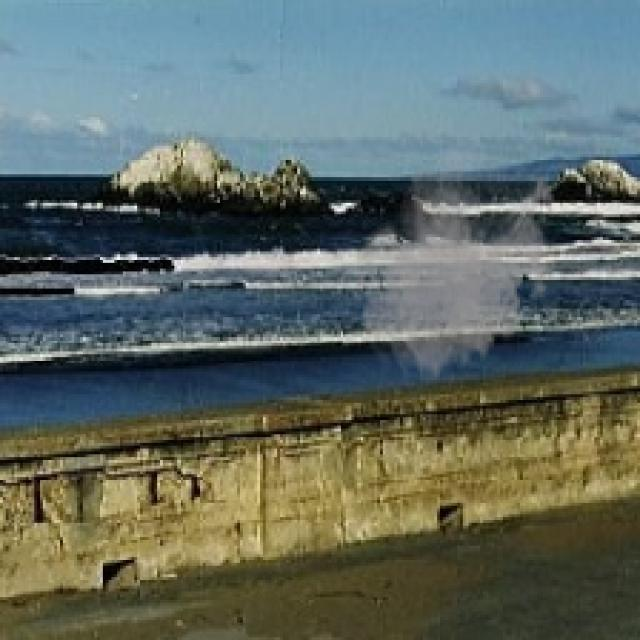smoke: (340, 140, 560, 386)
